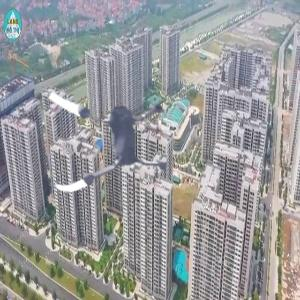drone: (32, 57, 188, 213)
